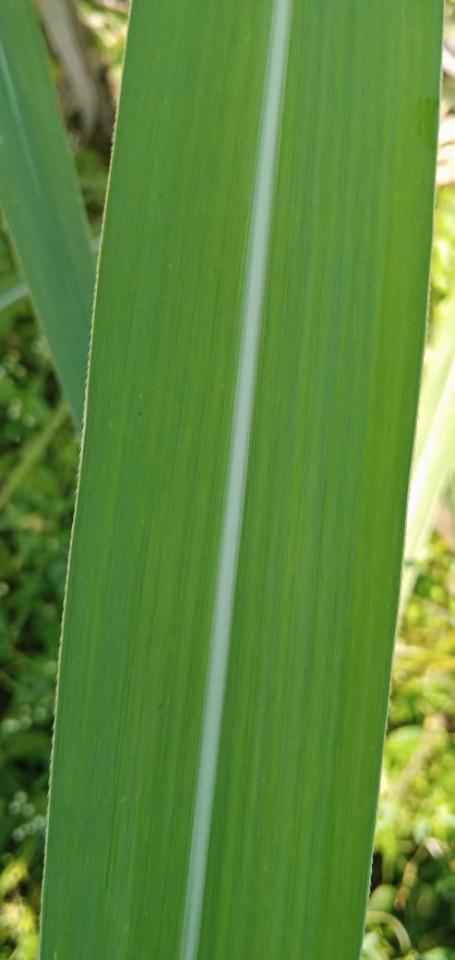Healthy: (42, 0, 441, 959)
